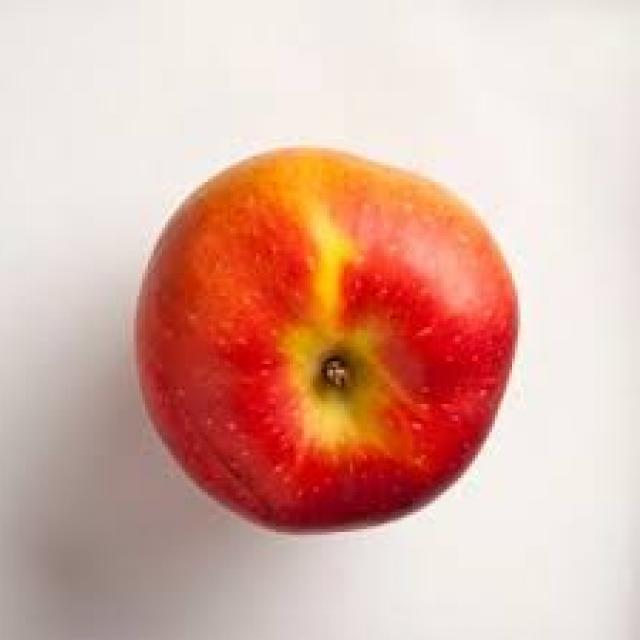apple: (125, 144, 525, 534)
